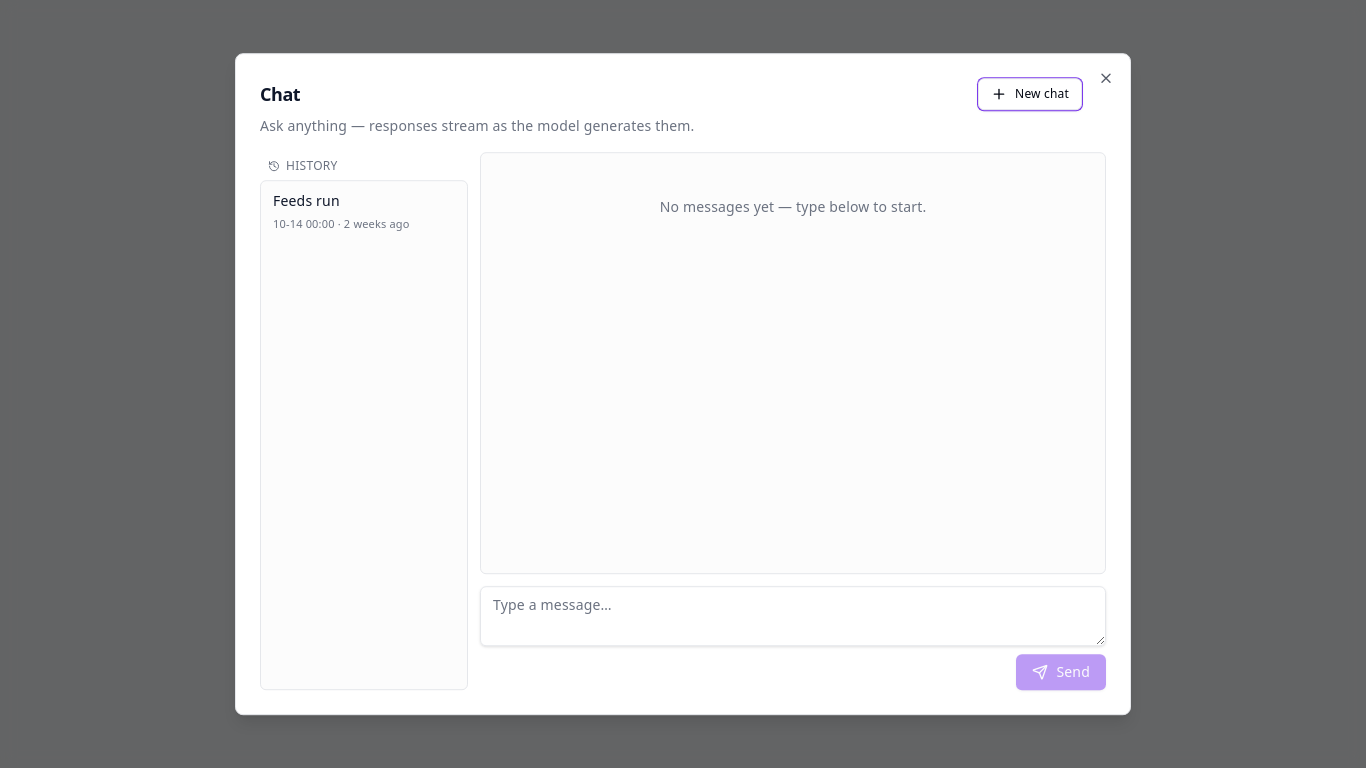
Test case: ChatPanel chat history › replays a stored session as bubbles with its agent steps
What coordinates should you click on to do the following:
click the button with test id "chat-session-row"
I would click on:
 (364, 214)
Its box is [265,185,463,243].
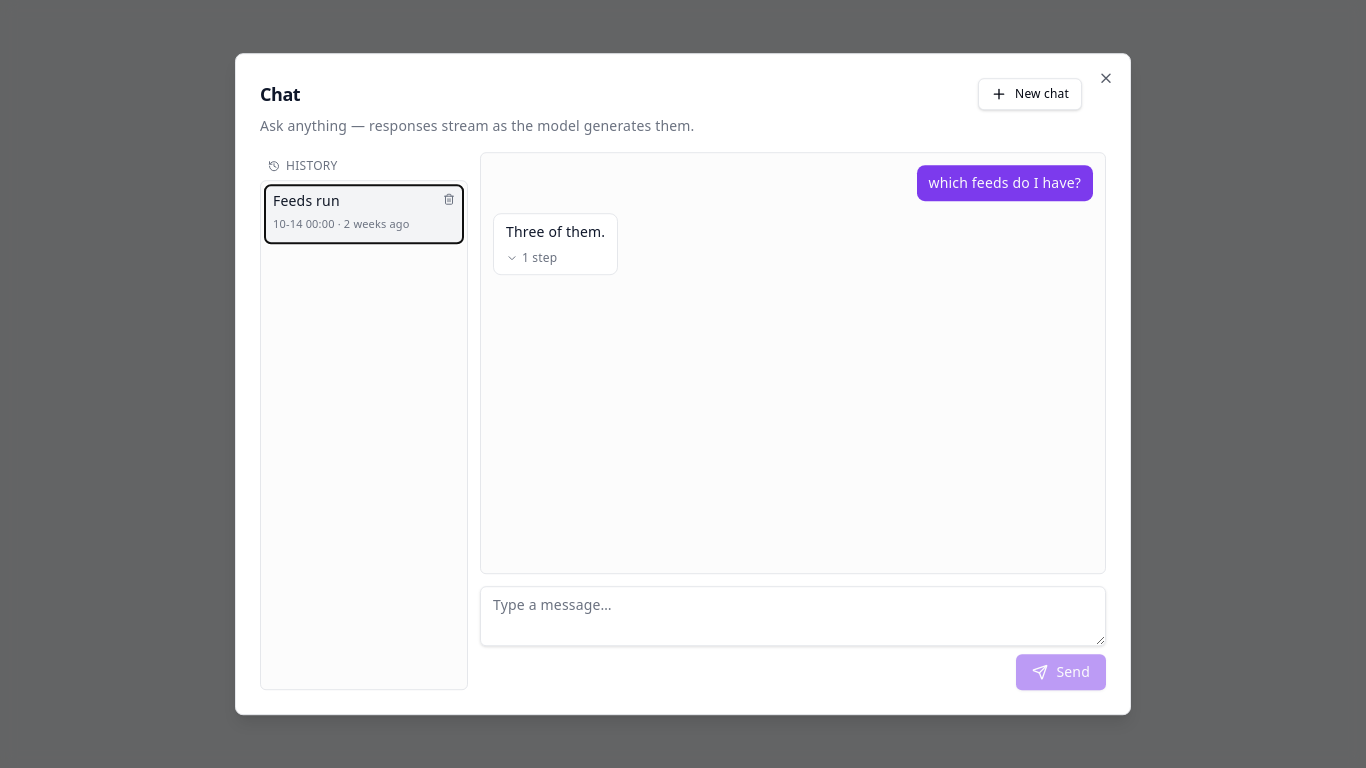
Expected: the element with test id "chat-message-user" reads "which feeds do I have?", [928,173,1081,192]
Expected: the element with test id "chat-message-assistant" shows "Three of them.", [506,222,605,241]
Expected: the element with test id "chat-agent-steps" is shown, [506,249,557,266]
